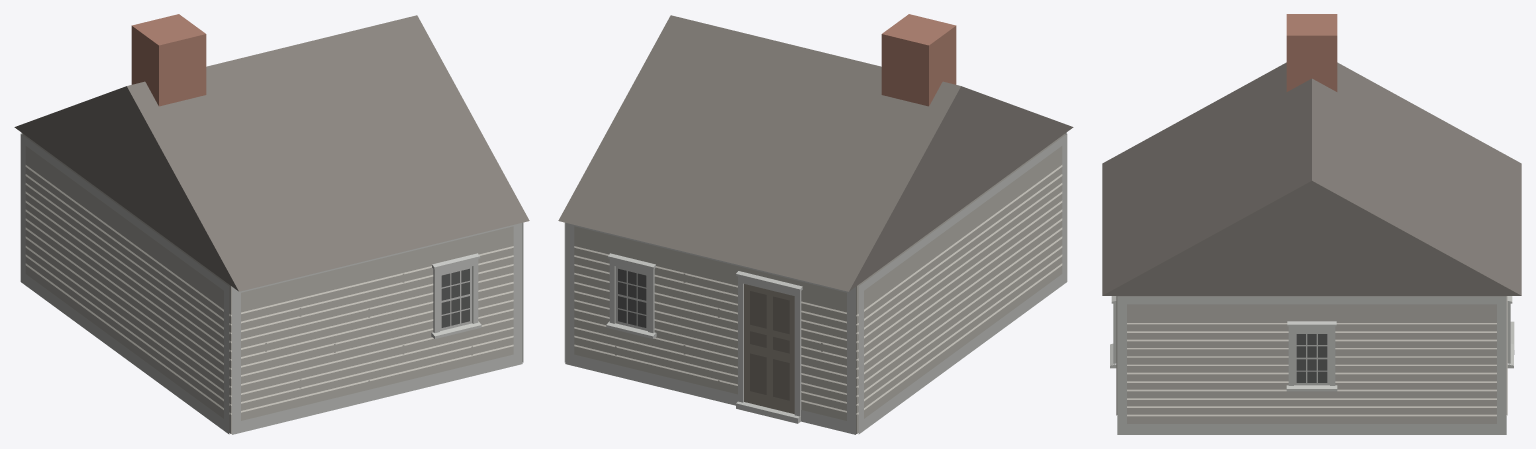
The model's file is recon_1835_blk_randolph_wells_d3_05__inferred_1835.glb.
The picture shows the model from 3 angles, left to right: view 1: azimuth 30°, elevation 25°; view 2: azimuth 150°, elevation 25°; view 3: azimuth 270°, elevation 25°; orthographic projection. The views are drawn at different scales.
Parts seen in each view (by area): view 1: recon_1835_blk_randolph_wells_d3_05__inferred_1835; view 2: recon_1835_blk_randolph_wells_d3_05__inferred_1835; view 3: recon_1835_blk_randolph_wells_d3_05__inferred_1835.
Part boxes in pixels (box(x1,y1,x2,y2)): recon_1835_blk_randolph_wells_d3_05__inferred_1835: box(14, 14, 529, 434); recon_1835_blk_randolph_wells_d3_05__inferred_1835: box(558, 14, 1073, 434); recon_1835_blk_randolph_wells_d3_05__inferred_1835: box(1102, 14, 1521, 434).
Bounding box in the file's own units: 5.31 × 5.39 × 6.91.
